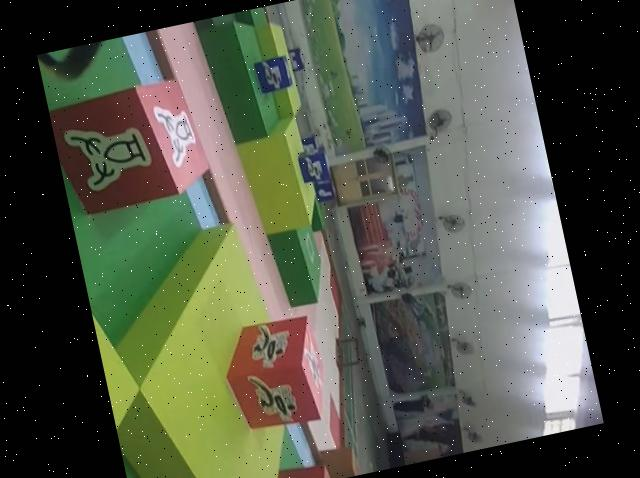R1: (215, 312, 331, 437)
R2 Fake: (254, 458, 335, 478)
R2 Real: (47, 71, 216, 215)
